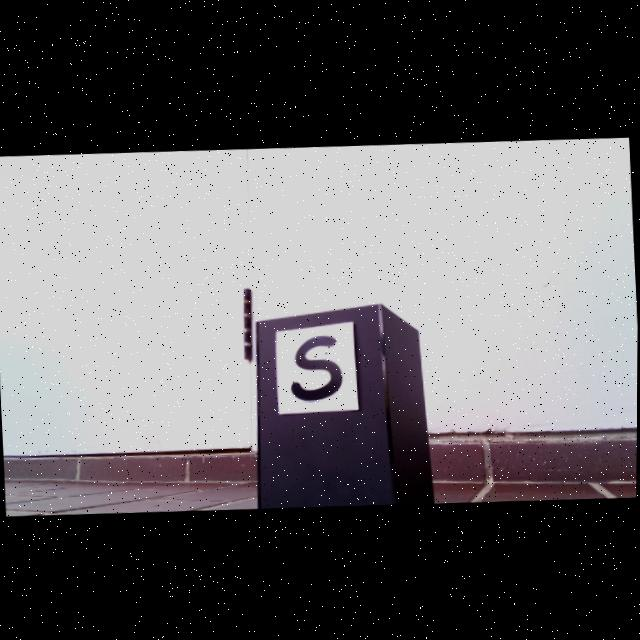S: (292, 336, 344, 400)
